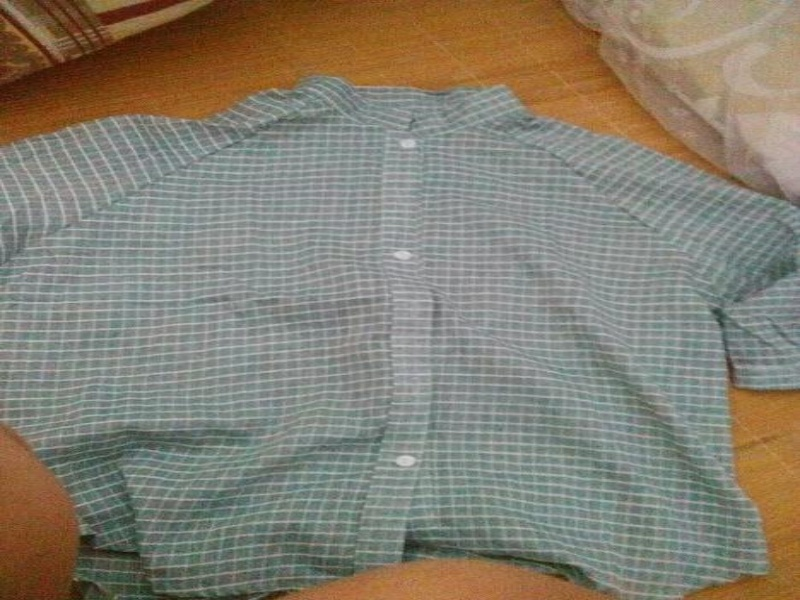long_sleeved_shirt: (3, 75, 797, 599)
